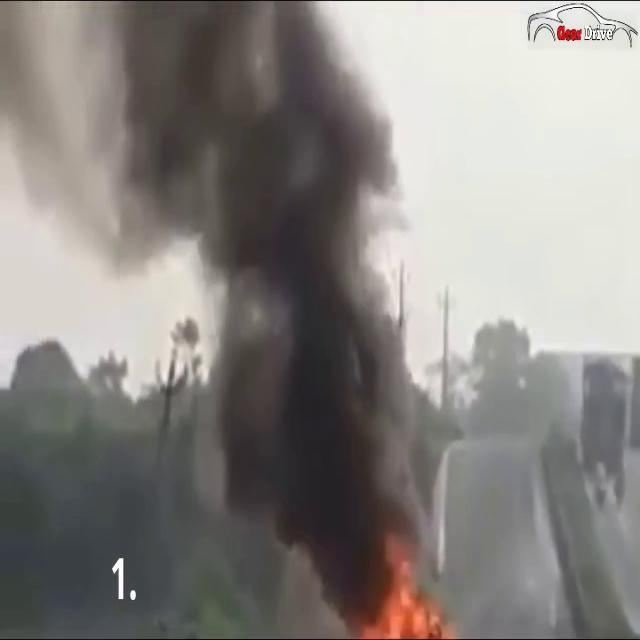Fire: (354, 544, 454, 638)
Smoke: (0, 2, 460, 616)
